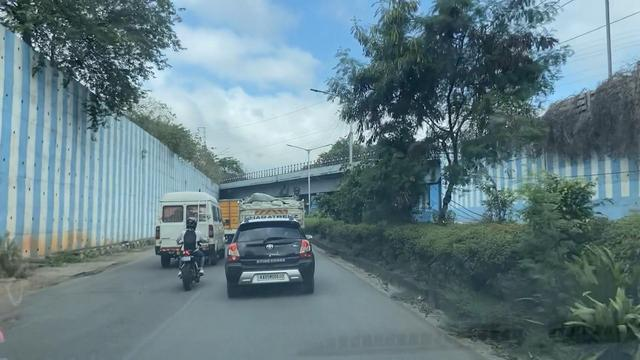HMV: (158, 193, 224, 267)
LMV: (223, 222, 317, 300), (172, 211, 205, 294)
